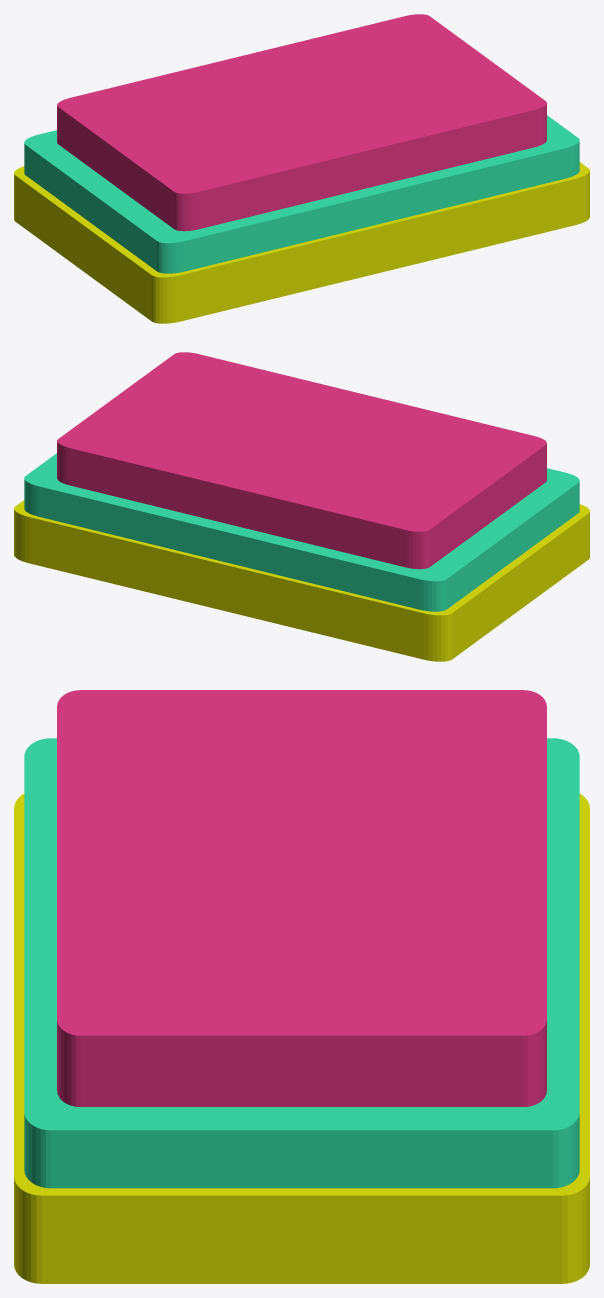
File: LayoutClothes_2.fbx
3 views of the same model, one above another, from view 1: azimuth 30°, elevation 25°; view 2: azimuth 150°, elevation 25°; view 3: azimuth 270°, elevation 25° (orthographic). The views are drawn at different scales.
Visible parts, largest first — view 1: Cube.019, Cube.017, Cube.018; view 2: Cube.019, Cube.017, Cube.018; view 3: Cube.019, Cube.018, Cube.017.
Part boxes in pixels (x1,y1,x2,y2): Cube.019: (57,14,546,231); Cube.017: (14,162,589,323); Cube.018: (24,115,579,273); Cube.019: (57,352,546,569); Cube.017: (14,500,589,661); Cube.018: (24,453,579,611); Cube.019: (57,690,546,1106); Cube.018: (24,738,579,1188); Cube.017: (14,794,589,1283).
Bounding box in the file's own units: 83.17 × 20.77 × 49.8.
